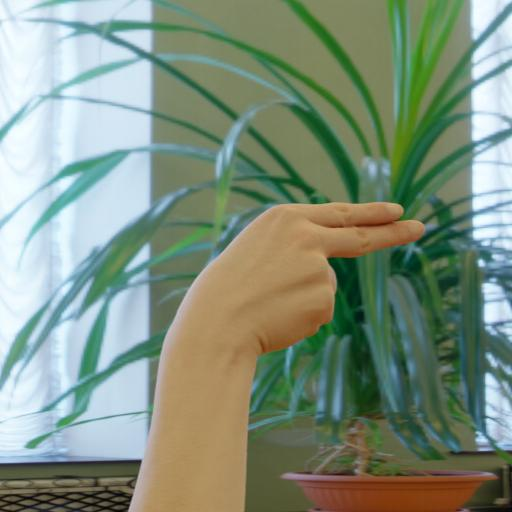H: (136, 126, 479, 430)
